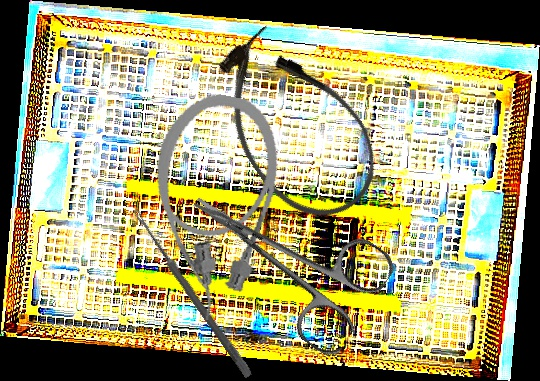Cannula: (191, 11, 399, 240), (129, 85, 291, 328)
Iris Scissors: (165, 148, 400, 361)
Surgical Spoon: (129, 207, 255, 379)
